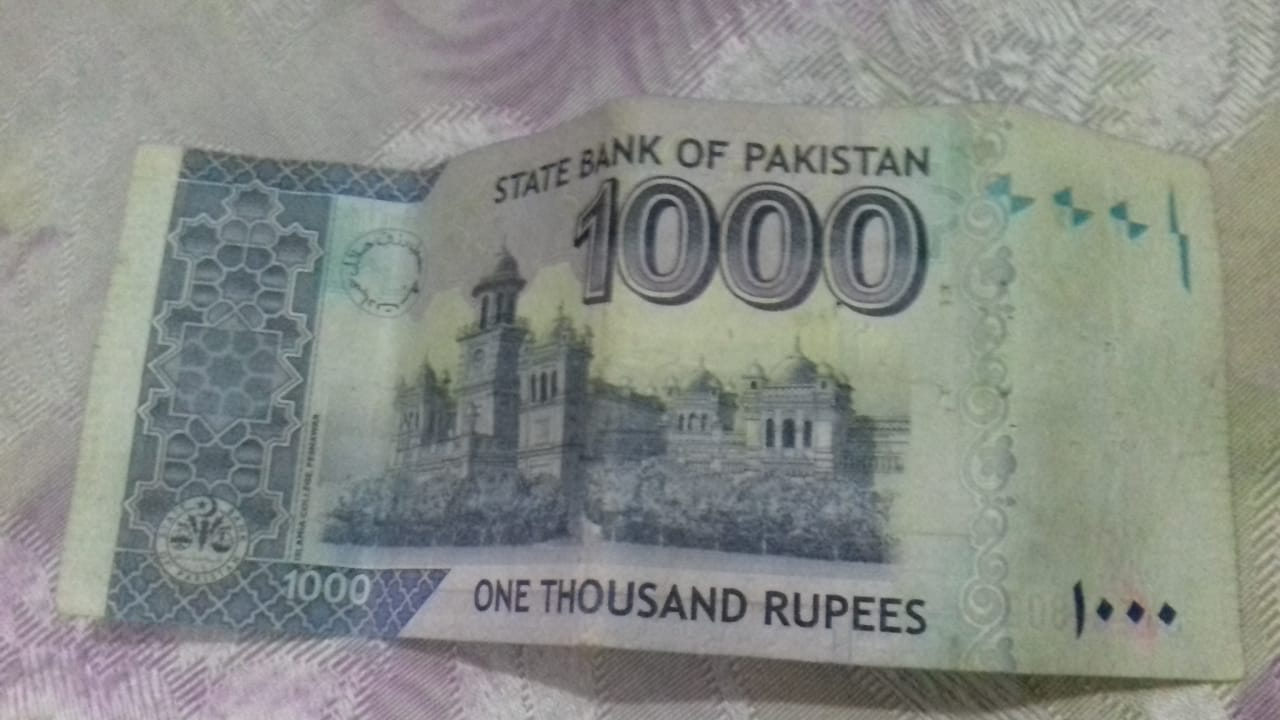1000 rupee: (51, 62, 1221, 692)
